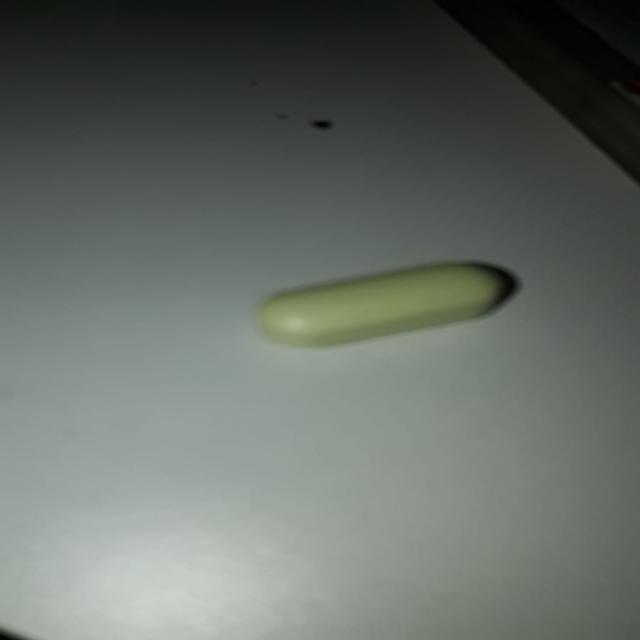pills: (246, 258, 524, 351)
